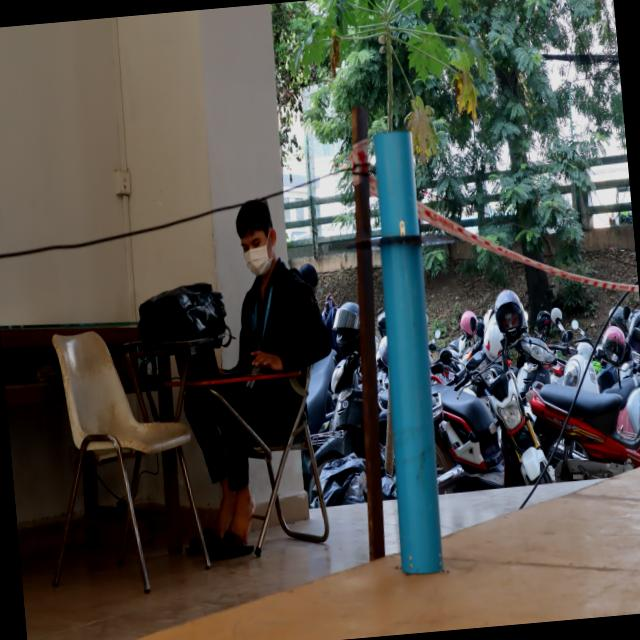pole: (343, 124, 451, 394)
